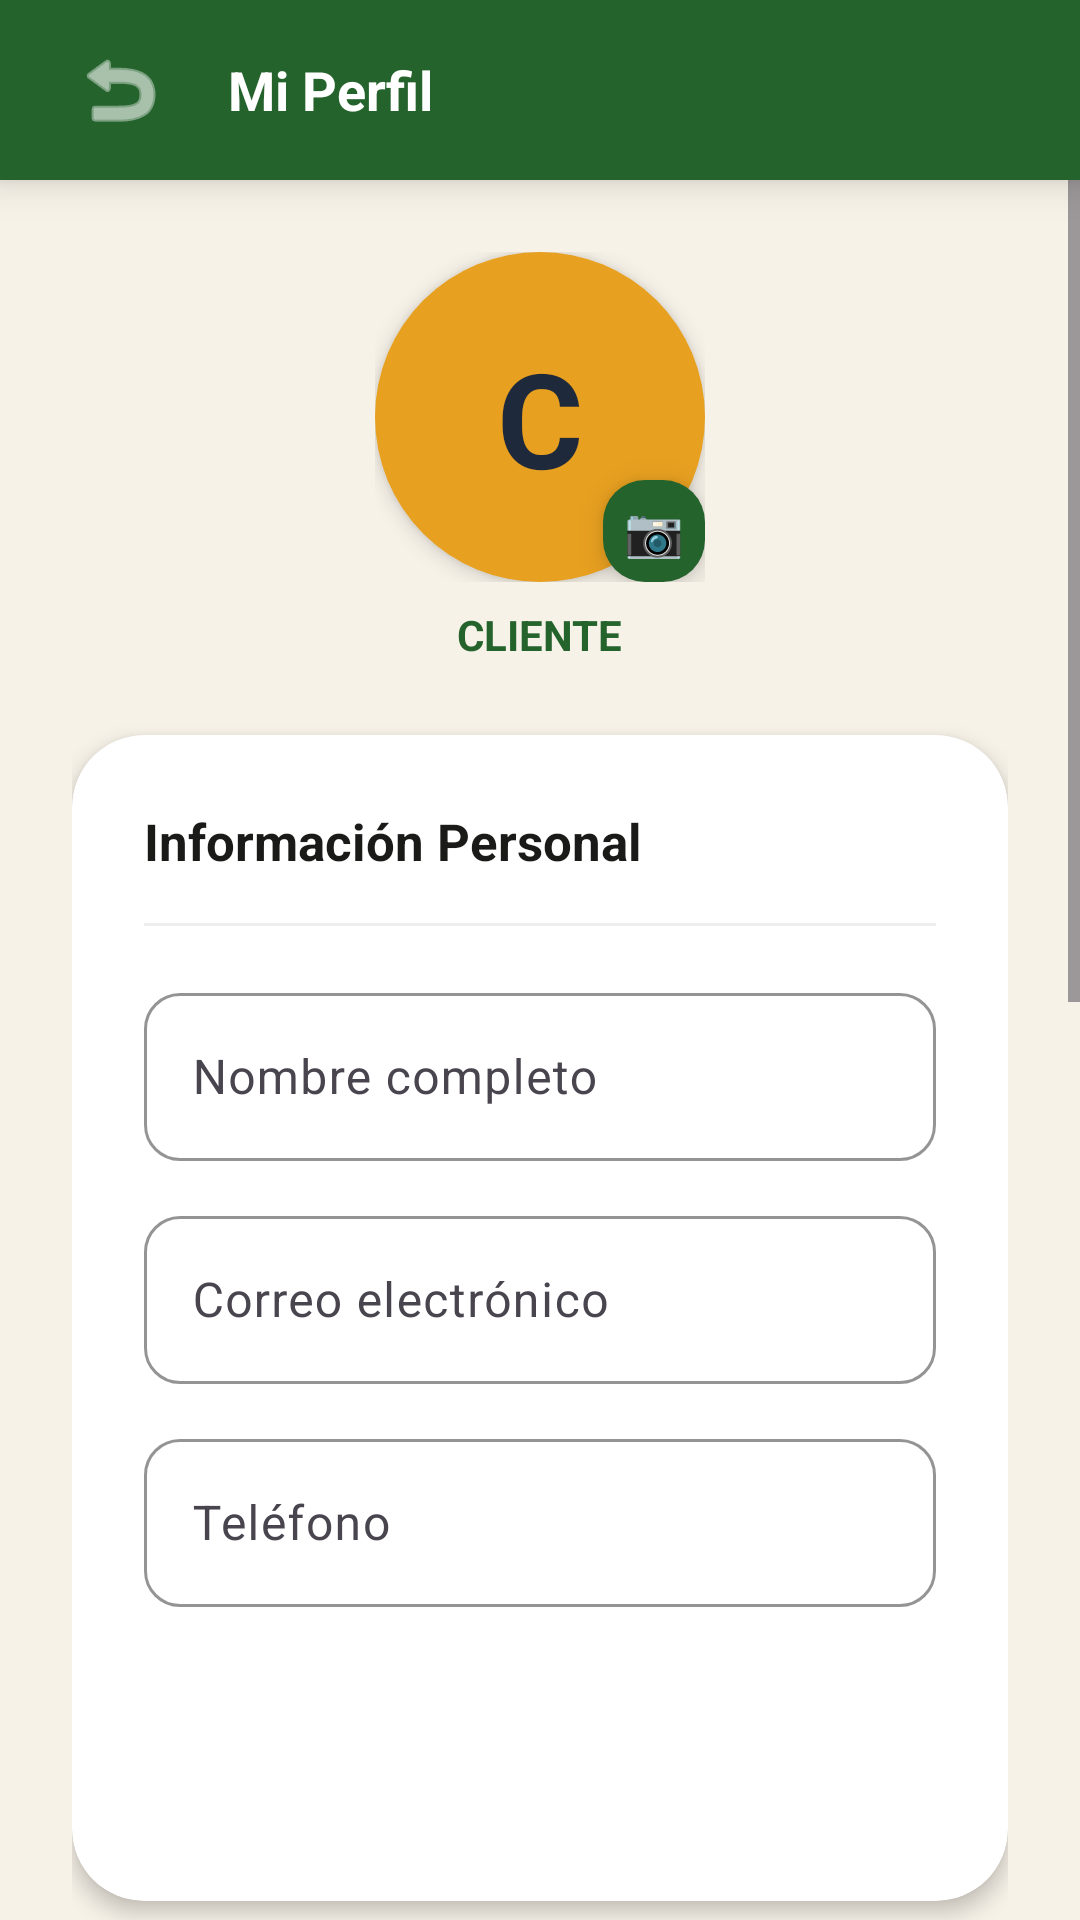

Named icons in this screenshot (1080 × 1920) and their centers, (x=x, y=y):
Volver: (x=121, y=90)
